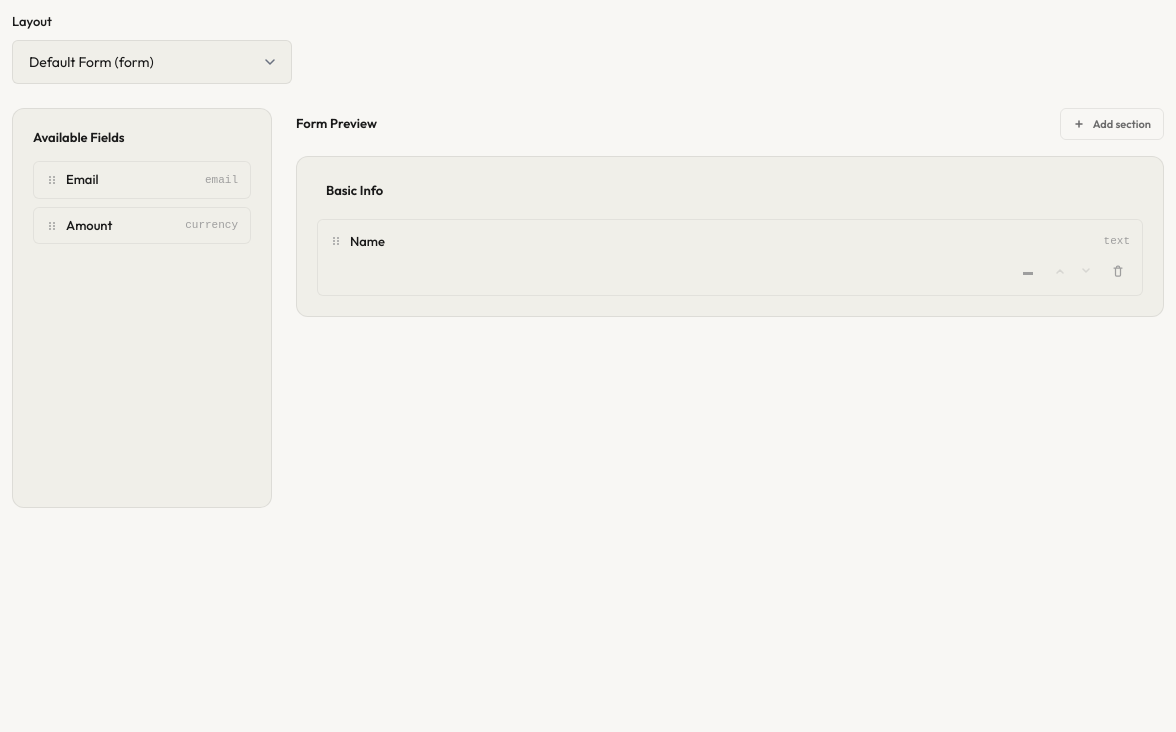
Test case: LayoutBuilderTab › shows success message after saving
Click the button named "Toggle width for Name": (1028, 271) 1016,259 -> 1040,283
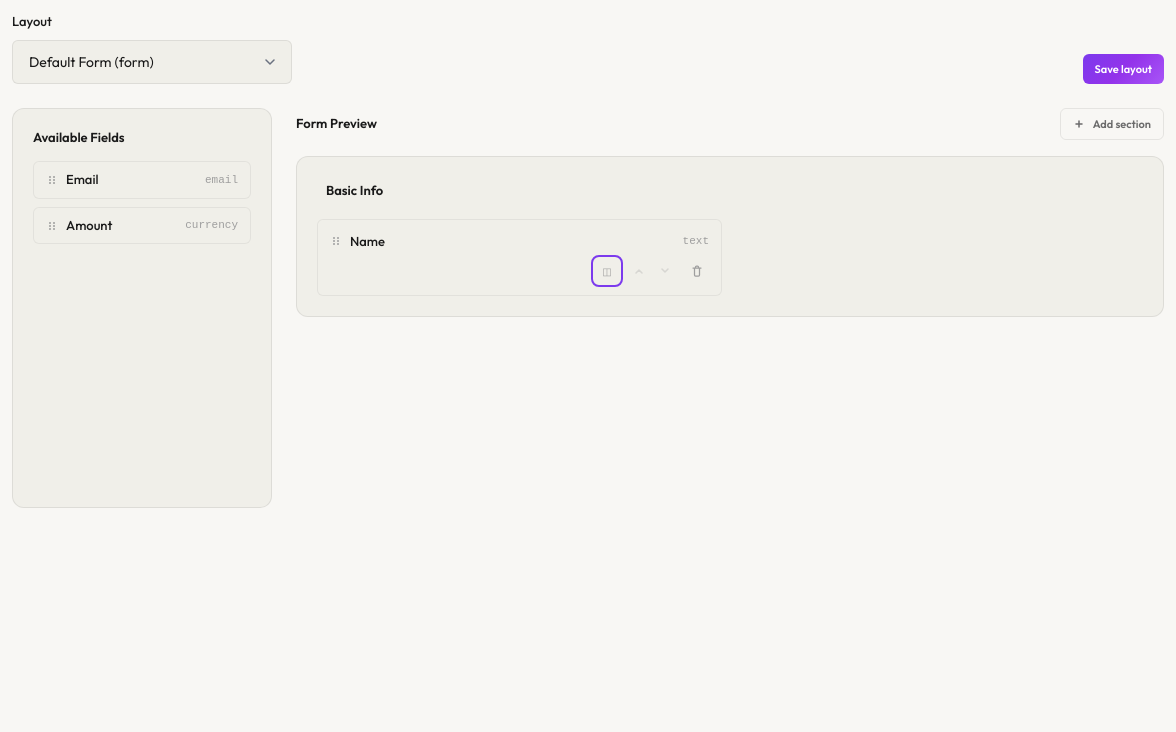
Result: the button "Save layout" is shown
Click the button "Save layout": (1123, 68) 1082,54 -> 1164,84
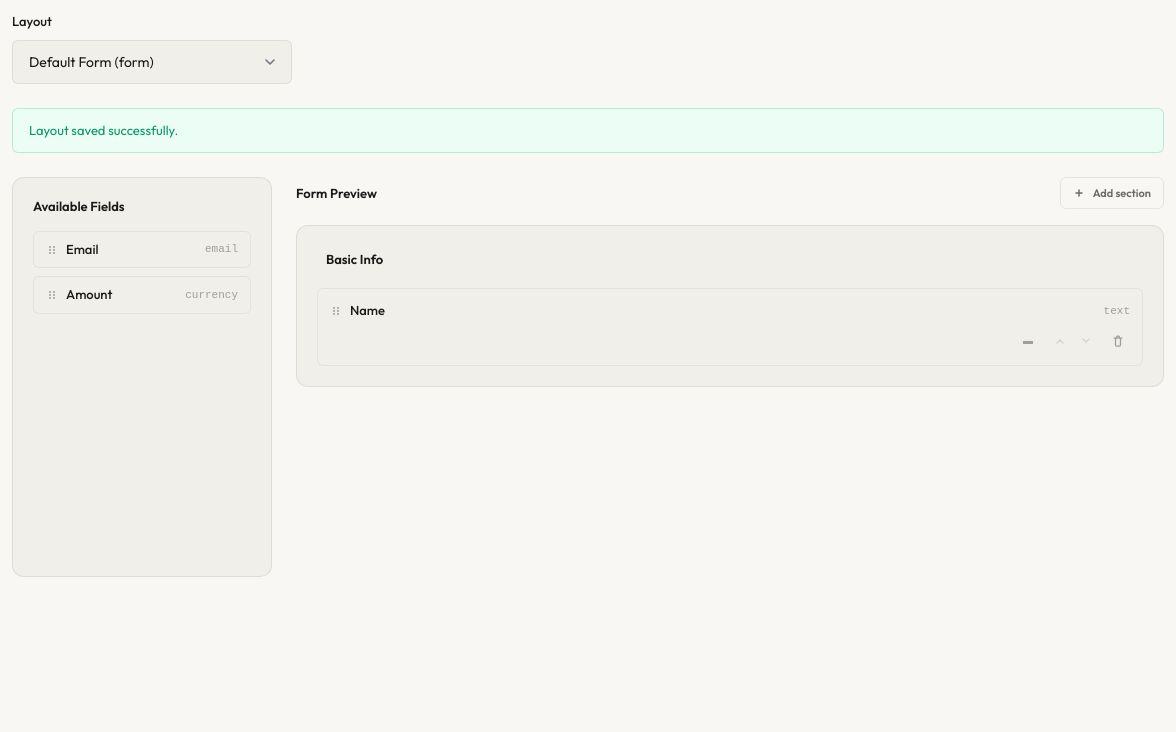
Result: the text "Layout saved successfully." is shown at 12,108 -> 1164,153
